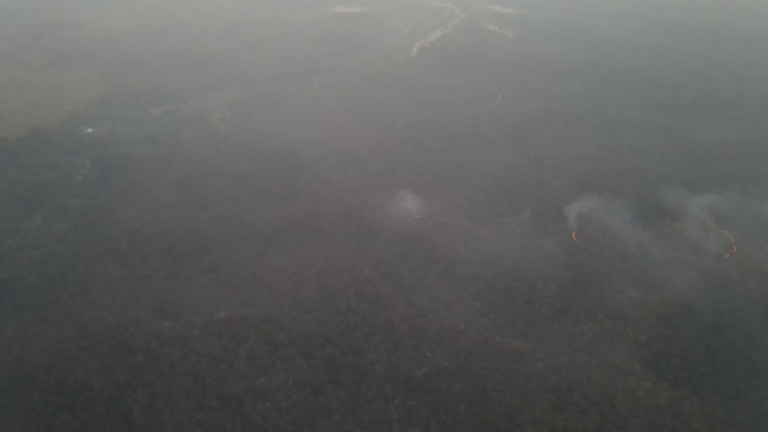fire: (702, 215, 741, 266), (569, 230, 583, 246)
smoke: (648, 182, 763, 298), (551, 192, 645, 264), (390, 188, 431, 226)
